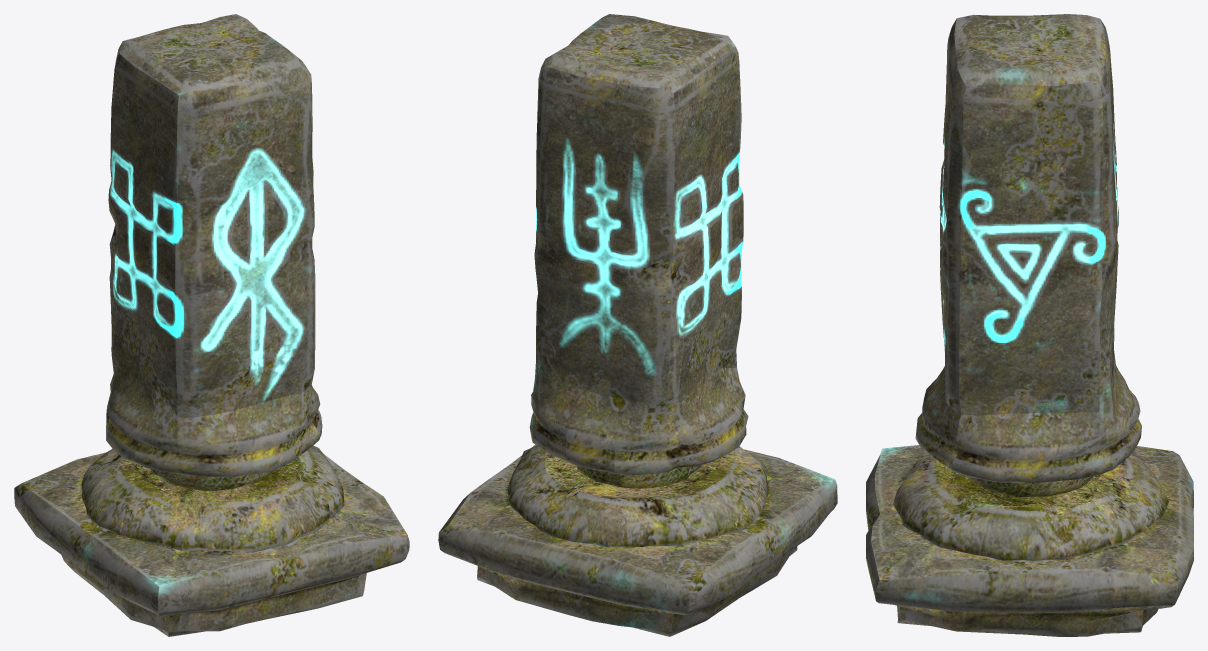
The model's file is obelisk.glb.
3 renders of one model, left to right at view 1: azimuth 30°, elevation 25°; view 2: azimuth 150°, elevation 25°; view 3: azimuth 270°, elevation 25°, orthographic. The views are drawn at different scales.
Visible parts, largest first — view 1: TopBit, Base; view 2: TopBit, Base; view 3: TopBit, Base.
Part boxes in pixels (bbox=[...]): TopBit: bbox=[106, 14, 322, 477]; Base: bbox=[14, 445, 409, 636]; TopBit: bbox=[529, 14, 748, 475]; Base: bbox=[438, 444, 837, 636]; TopBit: bbox=[915, 14, 1141, 483]; Base: bbox=[866, 445, 1193, 636].
Size of the model in its own units: 2.69 by 4.9 by 2.69.
Materials: 1 (1 with a texture image).
